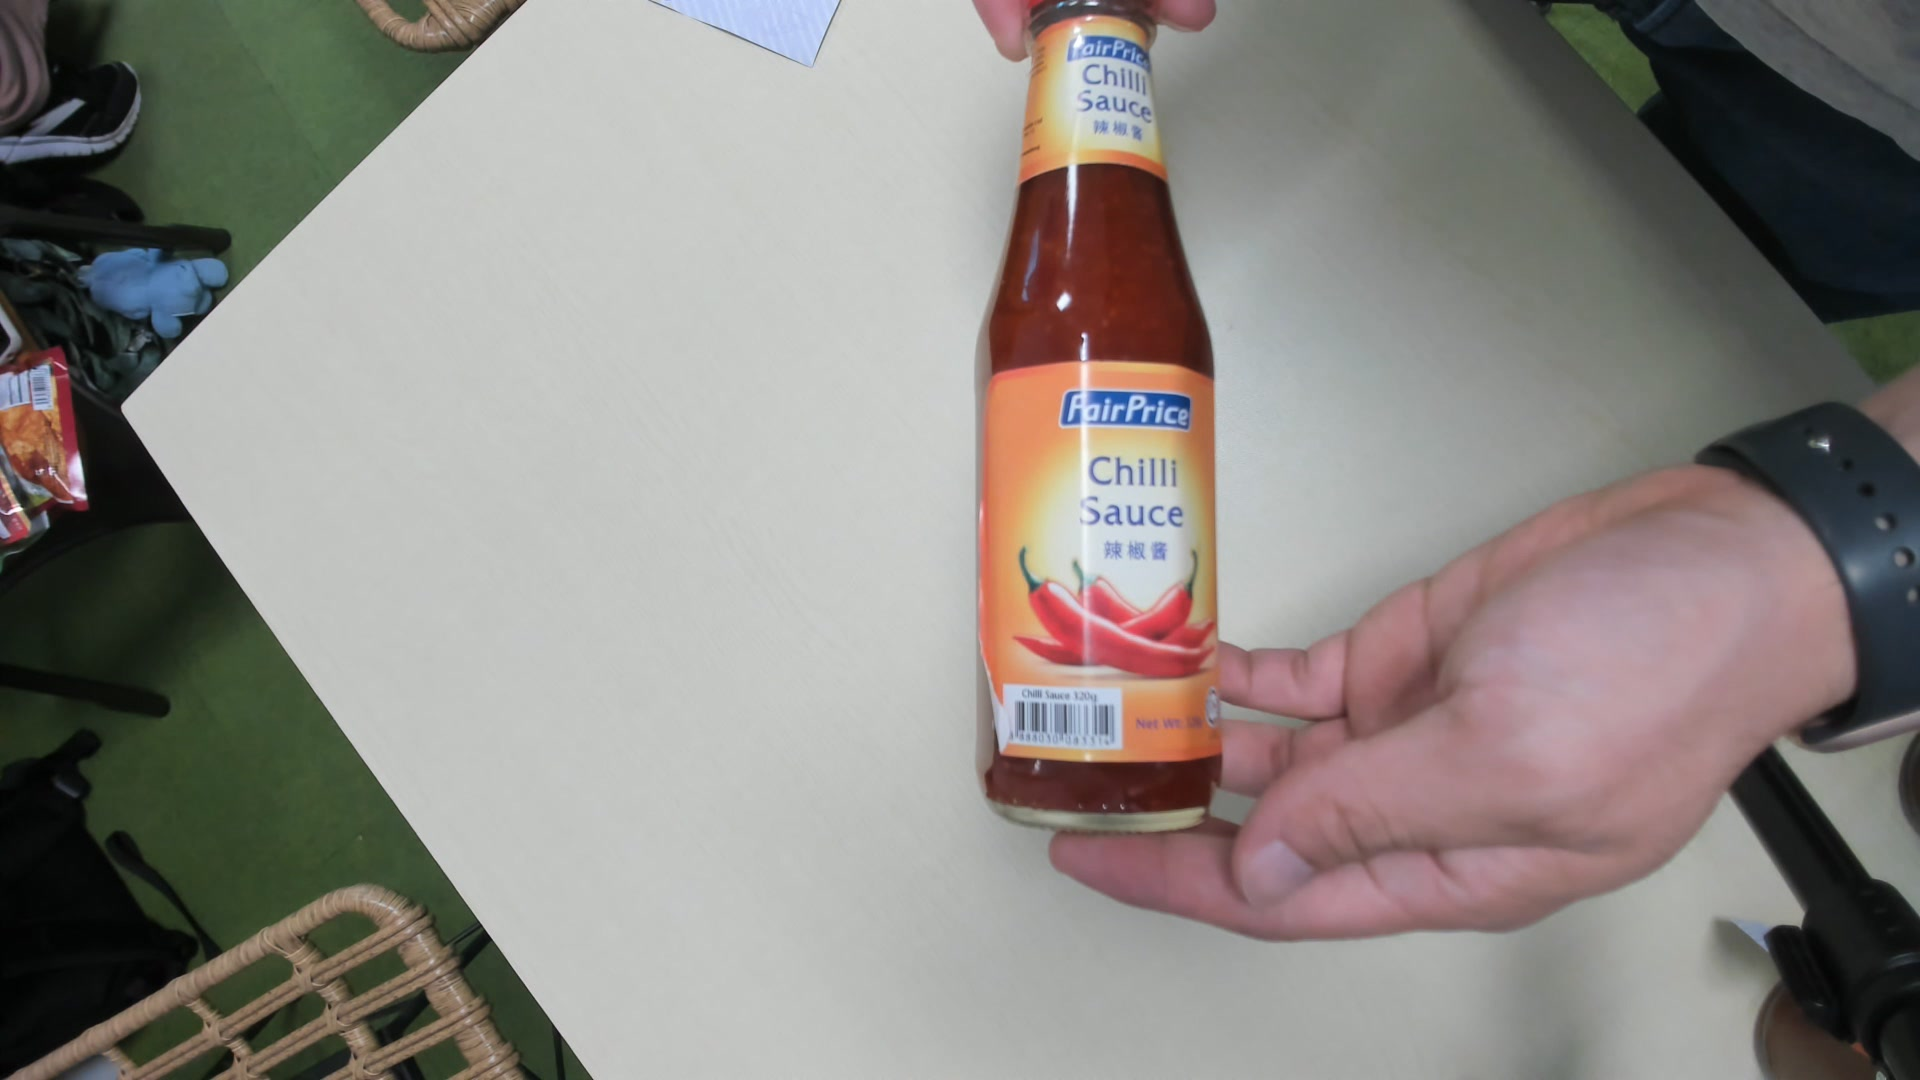KetchupChillSauce_300-399g_Halal_NonHealthy: (978, 1, 1233, 835)
